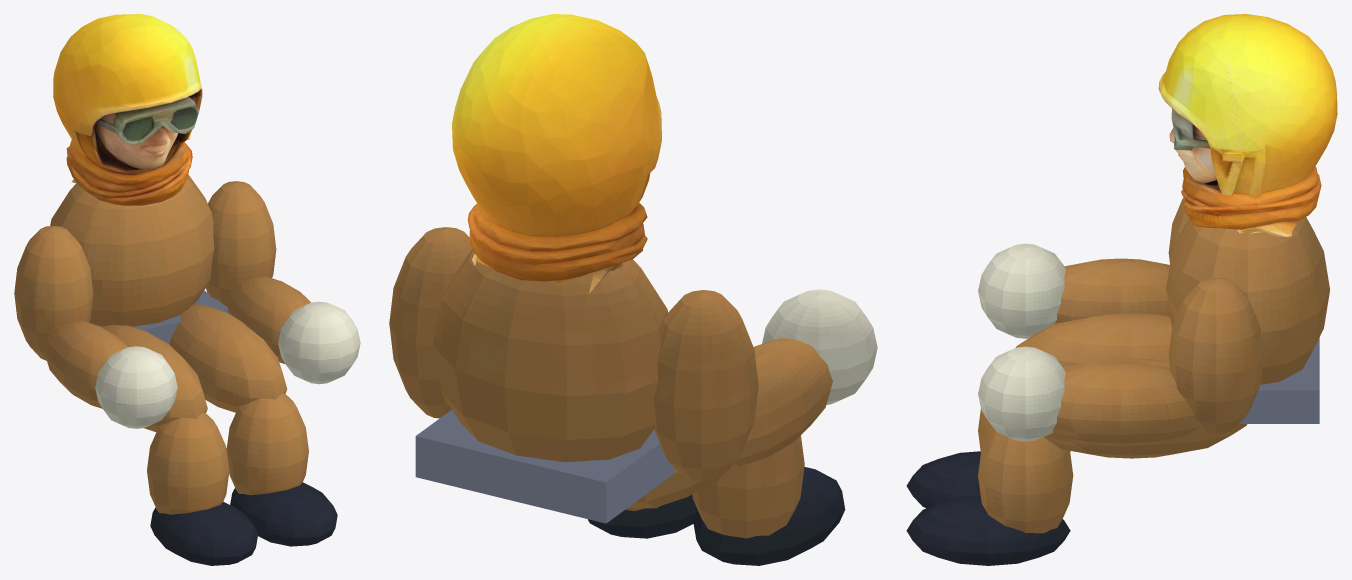
Rendered from explorer.glb.
3 views of the same model, side by side, from view 1: azimuth 30°, elevation 25°; view 2: azimuth 150°, elevation 25°; view 3: azimuth 270°, elevation 25° (orthographic). The views are drawn at different scales.
Parts seen in each view (by area): view 1: Helmet, Torso, RightThigh, LeftUpperArm, LeftShin, RightShin, RightUpperArm, LeftGlove, RightGlove, LeftBoot, RightBoot, LeftForearm (+3 smaller); view 2: Helmet, Torso, LeftUpperArm, Belt, RightUpperArm, LeftForearm, LeftShin, LeftGlove, LeftBoot, RightBoot, LeftThigh; view 3: Helmet, Torso, RightUpperArm, RightForearm, RightShin, RightBoot, RightGlove, LeftGlove, LeftForearm, LeftThigh, Belt, RightThigh (+1 smaller).
Boxes of the visible parts, bbox=[...] form: Helmet: bbox=[53, 14, 202, 205]; Torso: bbox=[50, 174, 214, 326]; RightThigh: bbox=[169, 304, 287, 412]; LeftUpperArm: bbox=[14, 225, 93, 360]; LeftShin: bbox=[147, 412, 229, 514]; RightShin: bbox=[226, 393, 308, 495]; RightUpperArm: bbox=[205, 181, 276, 306]; LeftGlove: bbox=[95, 346, 177, 428]; RightGlove: bbox=[278, 301, 360, 384]; LeftBoot: bbox=[150, 501, 257, 565]; RightBoot: bbox=[230, 482, 337, 546]; LeftForearm: bbox=[43, 320, 128, 408]; Helmet: bbox=[452, 14, 661, 293]; Torso: bbox=[432, 249, 668, 462]; LeftUpperArm: bbox=[654, 290, 758, 481]; Belt: bbox=[415, 410, 674, 523]; RightUpperArm: bbox=[389, 227, 472, 418]; LeftForearm: bbox=[731, 338, 832, 466]; LeftShin: bbox=[692, 435, 804, 538]; LeftGlove: bbox=[762, 289, 877, 404]; LeftBoot: bbox=[693, 467, 845, 565]; RightBoot: bbox=[588, 494, 697, 538]; LeftThigh: bbox=[627, 466, 731, 508]; Helmet: bbox=[1158, 14, 1337, 236]; Torso: bbox=[1166, 217, 1329, 384]; RightUpperArm: bbox=[1168, 277, 1263, 433]; RightForearm: bbox=[1052, 361, 1201, 445]; RightShin: bbox=[978, 425, 1073, 533]; RightBoot: bbox=[906, 496, 1070, 565]; RightGlove: bbox=[978, 346, 1065, 441]; LeftGlove: bbox=[978, 243, 1065, 338]; LeftForearm: bbox=[1054, 258, 1170, 323]; LeftThigh: bbox=[1015, 313, 1171, 366]; Belt: bbox=[1239, 338, 1319, 423]; RightThigh: bbox=[1044, 358, 1247, 458].
Size of the model in its own units: 0.64 by 1.06 by 0.8139.
15 materials, 14 textured.
